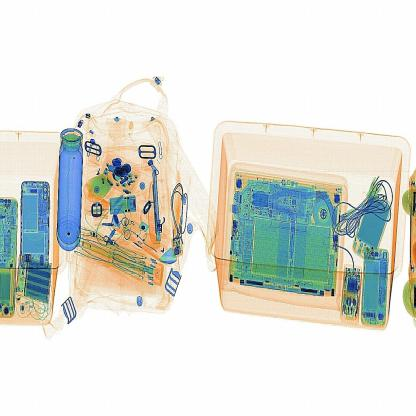pliers: (150, 170, 166, 246)
